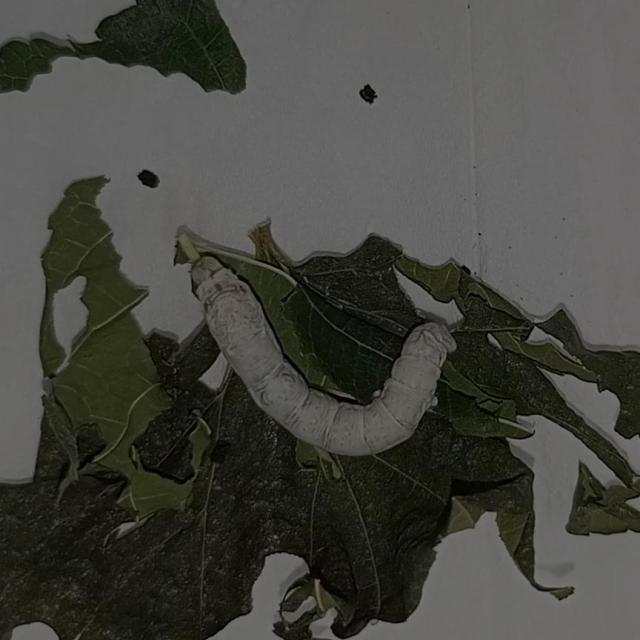Healthy: (135, 237, 520, 482)
